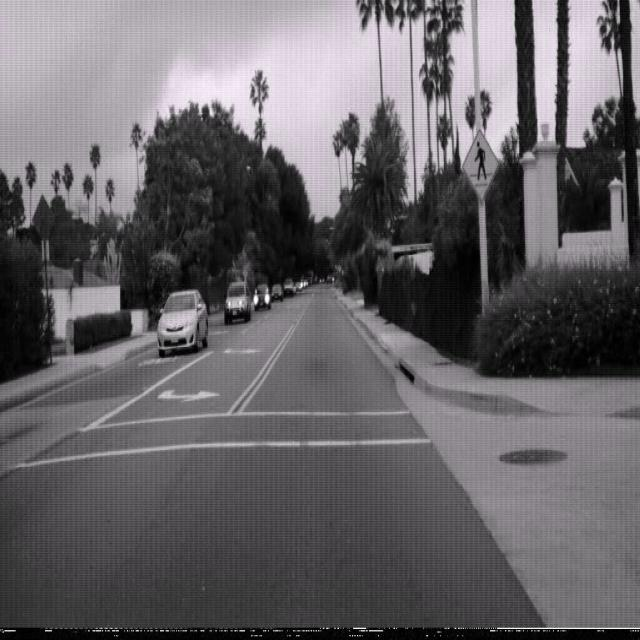pedestrianCrossing: (461, 126, 500, 204)
